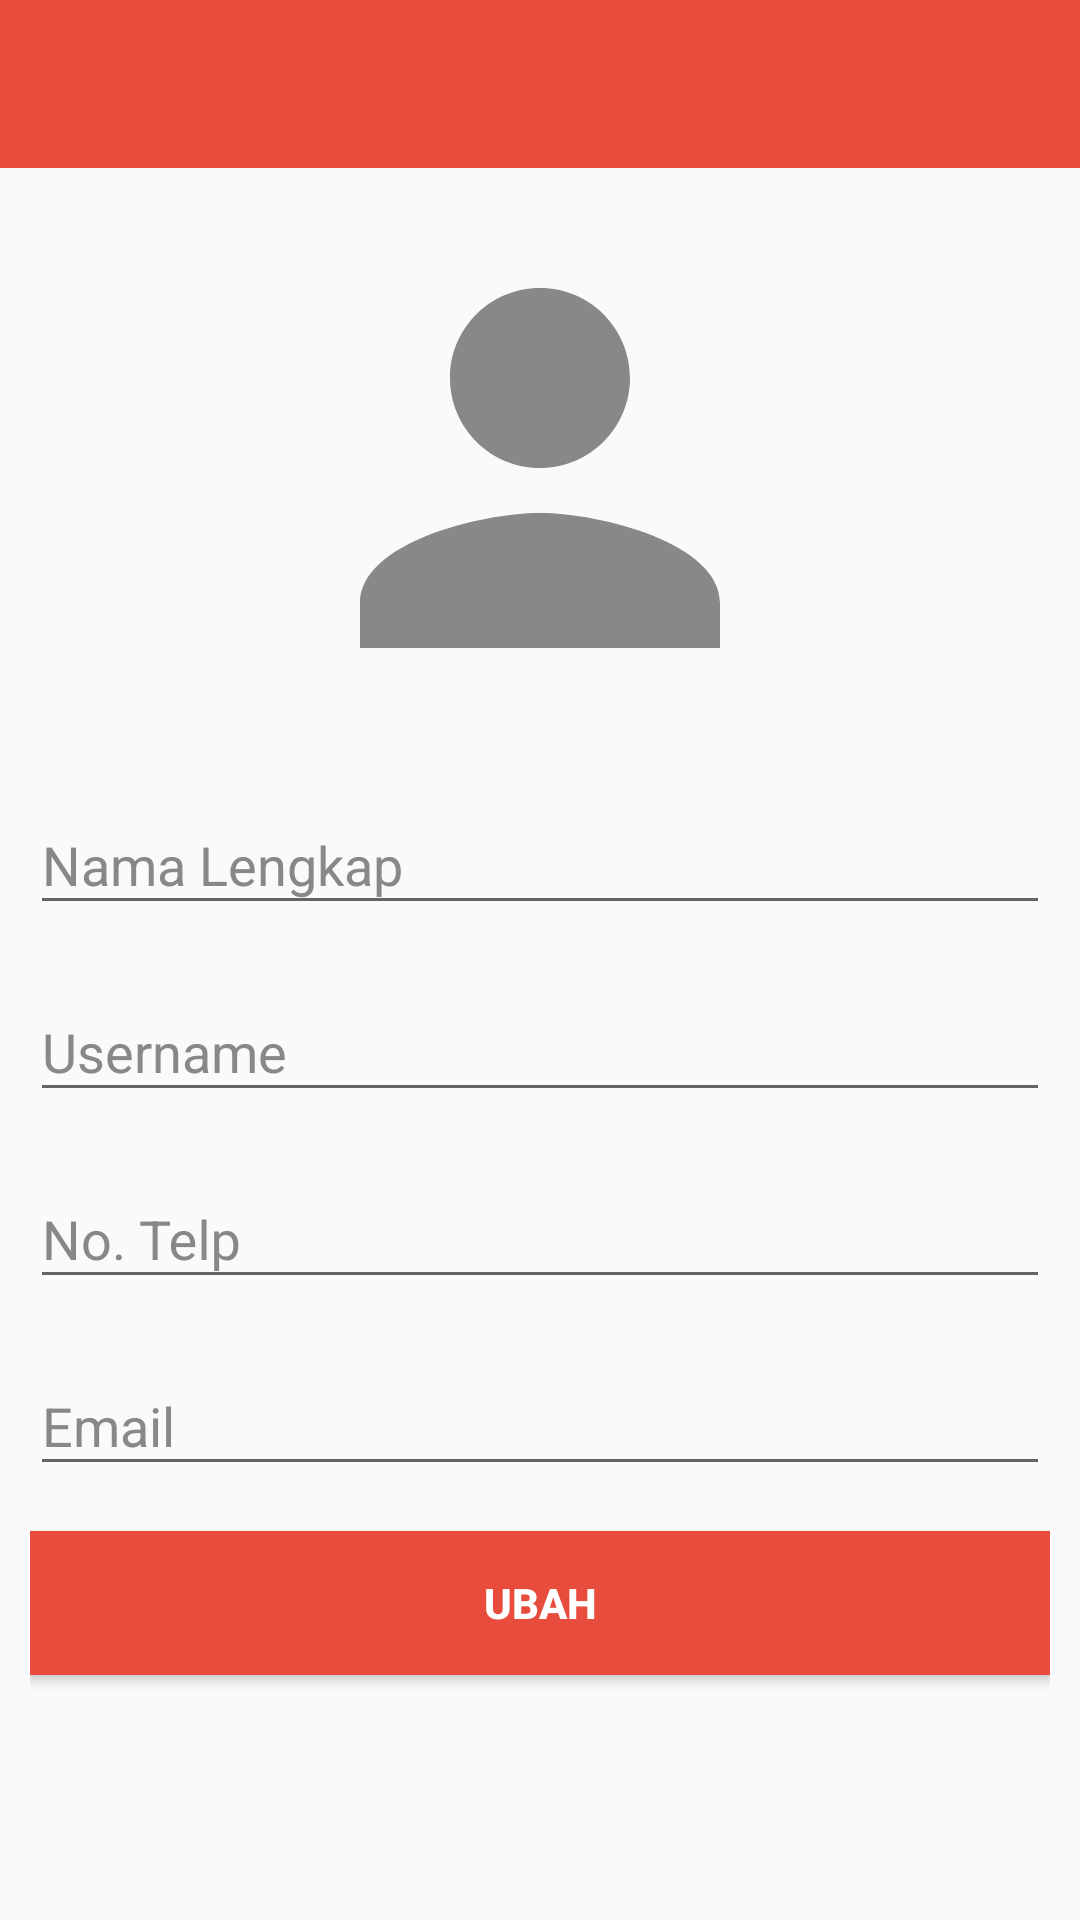

Named icons in this screenshot (1080w x 1920h) and their bounding boxes, bbox(x1, y1, x2, y2):
person: bbox(360, 288, 720, 648)
